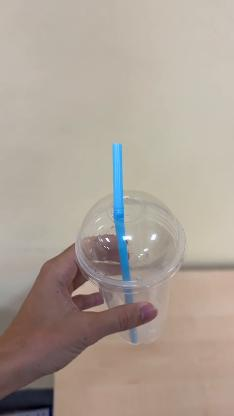Plastic Cup: (74, 191, 190, 347)
